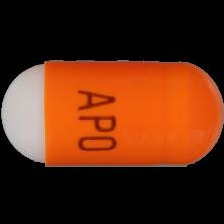60505-0015: (0, 0, 224, 224)
